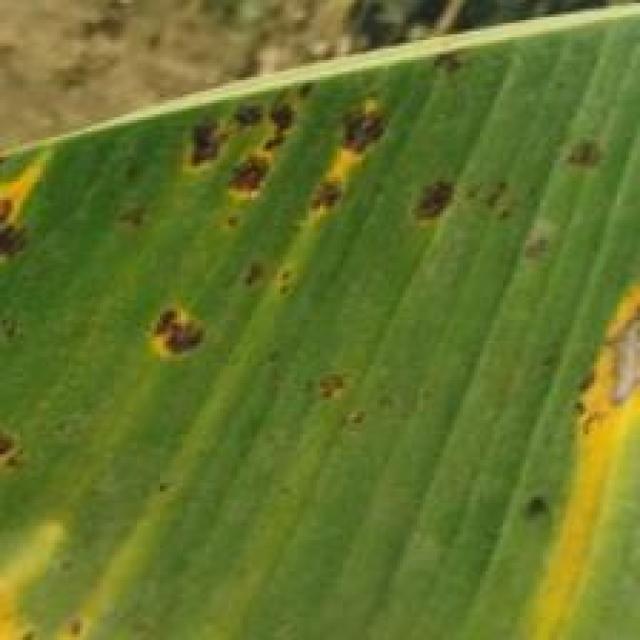Downey_mildrew: (0, 33, 523, 373), (506, 260, 637, 640), (0, 407, 108, 636), (288, 367, 411, 441), (544, 105, 636, 188)
